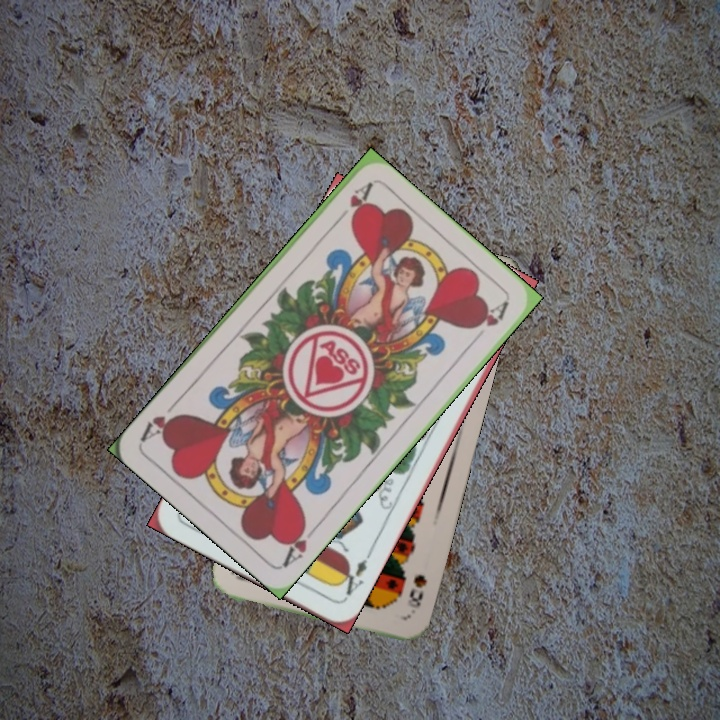EA: (334, 548, 374, 599)
HA: (279, 516, 322, 570), (330, 179, 375, 228)
S8: (405, 570, 430, 610)
